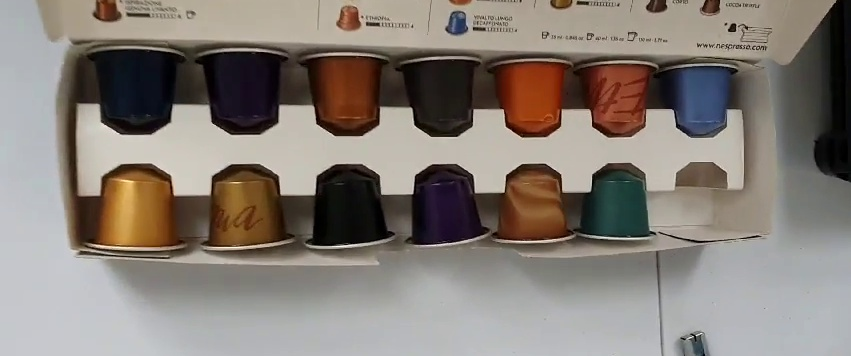capsule_1: (81, 41, 187, 137)
capsule_10: (305, 163, 397, 249)
capsule_11: (402, 169, 489, 249)
capsule_12: (492, 167, 574, 246)
capsule_13: (581, 166, 658, 242)
capsule_2: (194, 46, 288, 137)
capsule_3: (300, 49, 391, 135)
capsule_4: (397, 57, 481, 137)
capsule_5: (487, 59, 574, 137)
capsule_6: (578, 57, 661, 138)
capsule_7: (655, 61, 738, 138)
capsule_8: (86, 165, 185, 252)
capsule_9: (195, 165, 295, 251)
